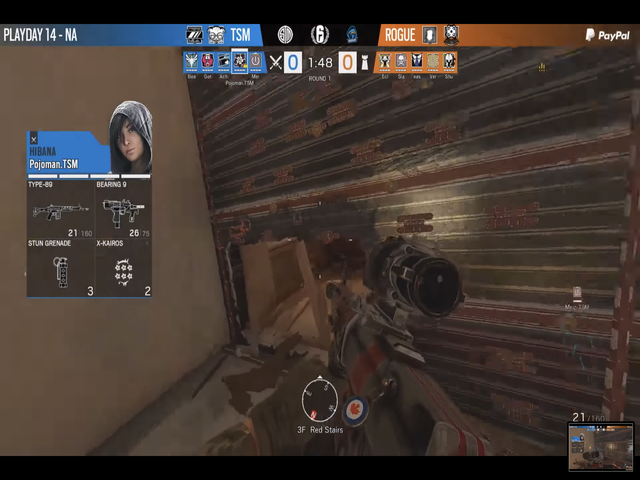0_blue: (283, 51, 304, 75)
